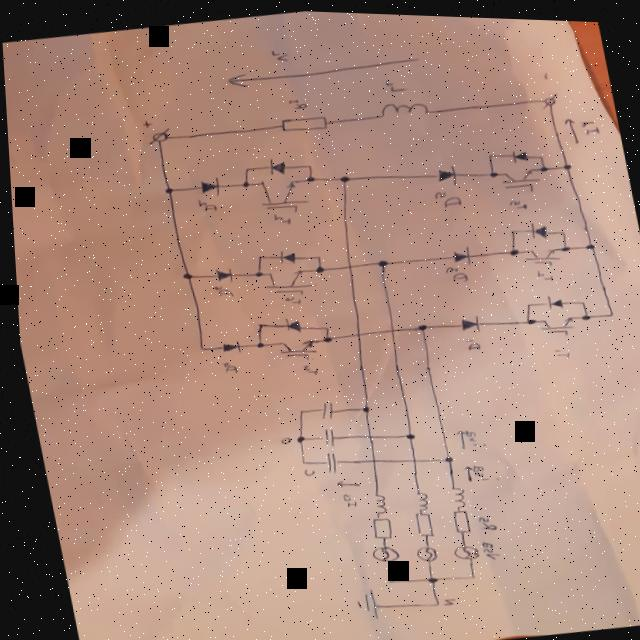capacitor: (321, 449, 335, 471), (315, 400, 330, 417), (318, 425, 332, 443)
crossover: (351, 329, 359, 334), (385, 324, 392, 329), (344, 261, 350, 266), (362, 431, 368, 436), (367, 455, 372, 460), (407, 455, 411, 459)
diode: (194, 172, 226, 197), (433, 160, 461, 184), (447, 241, 473, 264), (453, 311, 480, 331), (525, 216, 550, 237), (278, 312, 301, 333), (274, 244, 297, 264), (508, 143, 533, 161), (210, 264, 234, 282), (265, 156, 287, 174), (216, 337, 240, 353), (542, 289, 563, 306)
ground: (346, 586, 376, 618)
inductor: (380, 94, 432, 116), (365, 489, 383, 512), (445, 482, 461, 504), (406, 487, 423, 507)
junction: (159, 183, 174, 194), (505, 242, 518, 253), (178, 269, 192, 279), (289, 431, 302, 441), (559, 157, 572, 166), (337, 171, 350, 179), (251, 338, 263, 346), (420, 572, 432, 580), (521, 313, 533, 321), (582, 238, 595, 245), (374, 256, 386, 263), (399, 429, 411, 436), (577, 309, 589, 316), (537, 161, 549, 168), (250, 268, 261, 275), (438, 452, 449, 459), (239, 179, 250, 186), (487, 167, 498, 174), (304, 173, 315, 180), (313, 263, 322, 271), (294, 456, 304, 463), (535, 149, 545, 156), (293, 405, 302, 412), (507, 223, 516, 230), (254, 319, 263, 326), (242, 163, 251, 170), (521, 297, 530, 304), (556, 224, 565, 231), (310, 251, 320, 257), (194, 344, 203, 350), (253, 252, 262, 258), (604, 306, 613, 312), (485, 148, 494, 154), (381, 575, 390, 581), (357, 403, 366, 409), (320, 333, 327, 340), (559, 241, 567, 247), (462, 571, 471, 576), (576, 295, 584, 300), (305, 161, 313, 166), (427, 598, 435, 603), (320, 322, 326, 328), (416, 321, 422, 326)
resistor: (275, 108, 330, 134), (362, 512, 390, 539), (405, 507, 431, 535), (444, 504, 467, 531)
source: (442, 537, 475, 559), (365, 540, 396, 562), (409, 540, 434, 560)
terminal: (142, 124, 175, 145), (538, 87, 561, 105)
text: (430, 183, 463, 207), (441, 261, 468, 281), (381, 73, 408, 91), (466, 460, 493, 478), (474, 535, 494, 558), (577, 112, 600, 132), (193, 193, 216, 212), (269, 44, 292, 61), (267, 208, 291, 224), (460, 425, 481, 443), (285, 93, 308, 109), (531, 263, 554, 279), (216, 357, 237, 374), (471, 511, 492, 527), (458, 332, 479, 348), (278, 291, 302, 305), (210, 282, 232, 297), (506, 193, 528, 208), (337, 488, 354, 507), (548, 341, 569, 356), (297, 360, 317, 375), (540, 66, 553, 78), (275, 432, 289, 443), (435, 593, 450, 603), (298, 464, 311, 474), (140, 118, 153, 127)
transistor: (254, 172, 312, 214), (261, 262, 316, 298), (495, 162, 543, 193), (272, 334, 316, 363), (520, 239, 562, 267), (533, 309, 574, 335)
